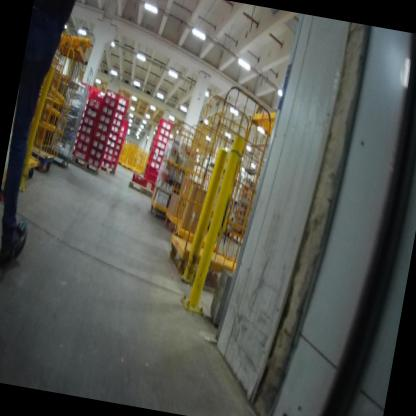pallet: (66, 150, 101, 178), (126, 176, 157, 202), (95, 159, 113, 175), (109, 164, 118, 175)
